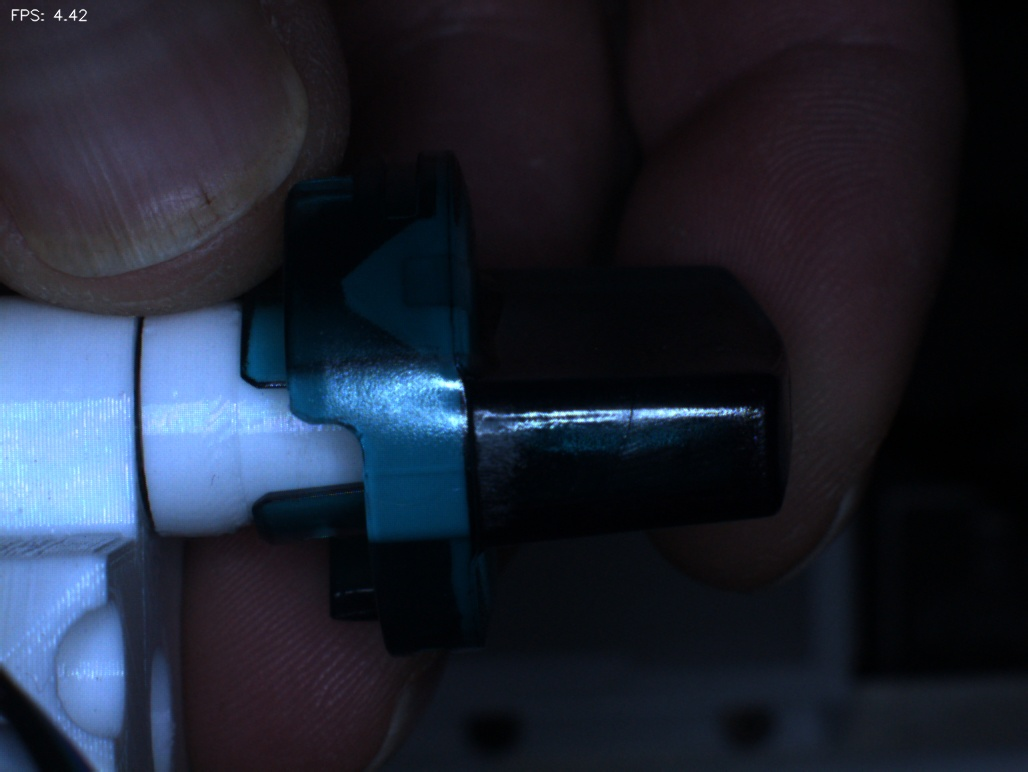DentOk: (320, 239, 390, 325)
